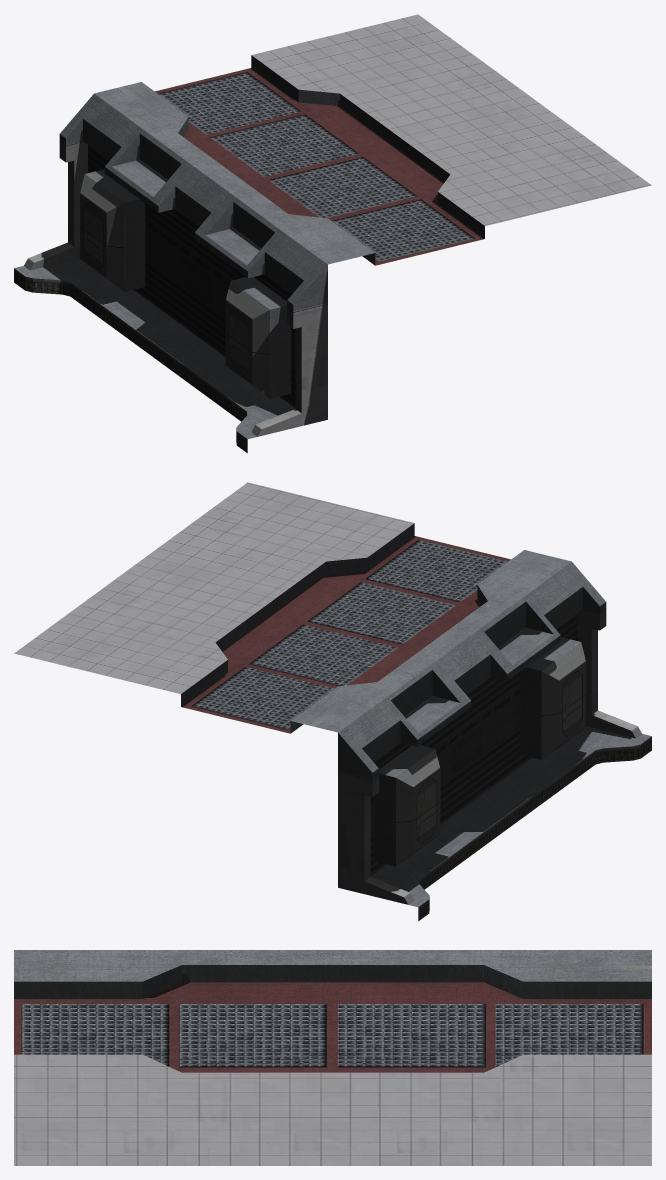
The model's file is ML1_Basic_R.FBX.
3 views of the same model, one above another, from view 1: azimuth 30°, elevation 25°; view 2: azimuth 150°, elevation 25°; view 3: azimuth 270°, elevation 25° (orthographic). The views are drawn at different scales.
Parts seen in each view (by area): view 1: ML1_Basic_R; view 2: ML1_Basic_R; view 3: ML1_Basic_R.
Boxes of the visible parts, x1,y1,x2,y2 form: ML1_Basic_R: (14, 14, 651, 453); ML1_Basic_R: (14, 482, 651, 921); ML1_Basic_R: (14, 950, 651, 1165).
Bounding box in the file's own units: 9.98 × 4 × 10.
Materials: 1 (1 with a texture image).
